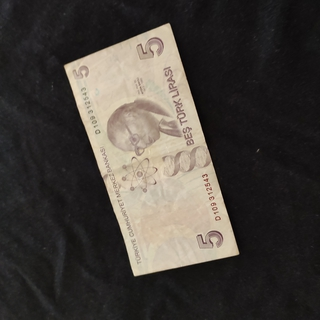5TLBack: (61, 20, 241, 278)
